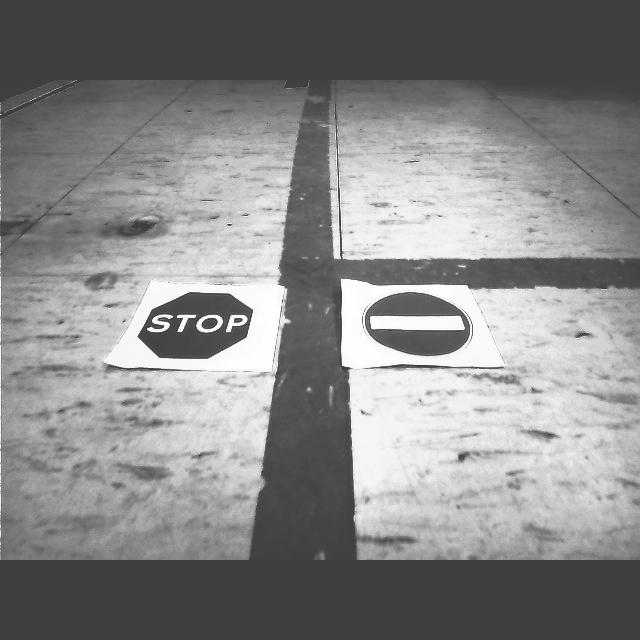NO ENTRY: (364, 291, 472, 359)
STOP: (138, 292, 253, 358)
